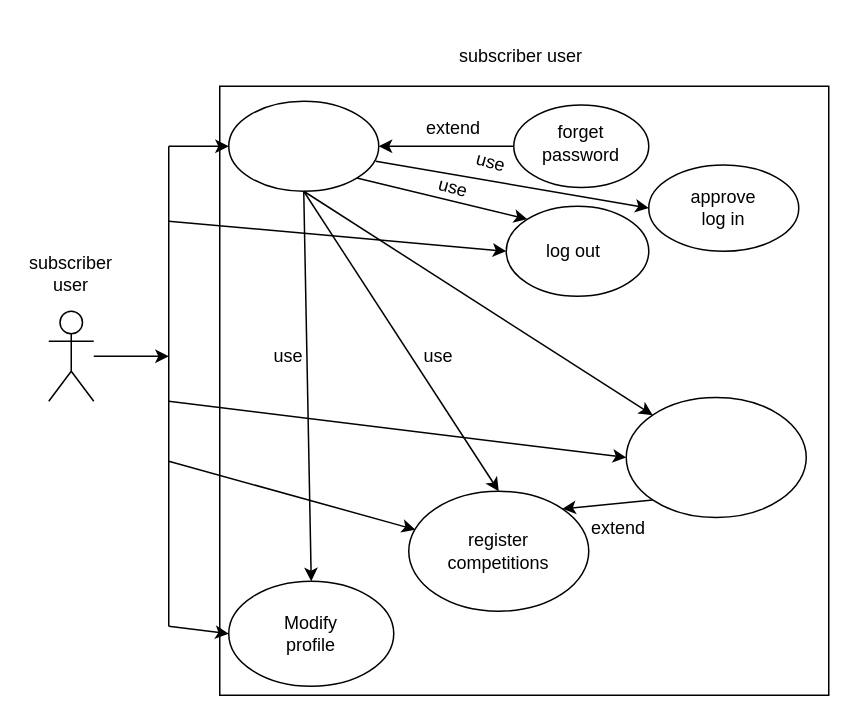
Image size: 855x722. Some labels were removed from this diagram. The shapes that lost their labels are listed below. From the top down, each one's centre as x and y in pixels, then its label:
[303,145]: log in
[70,355]: Actor
[715,457]: register package
